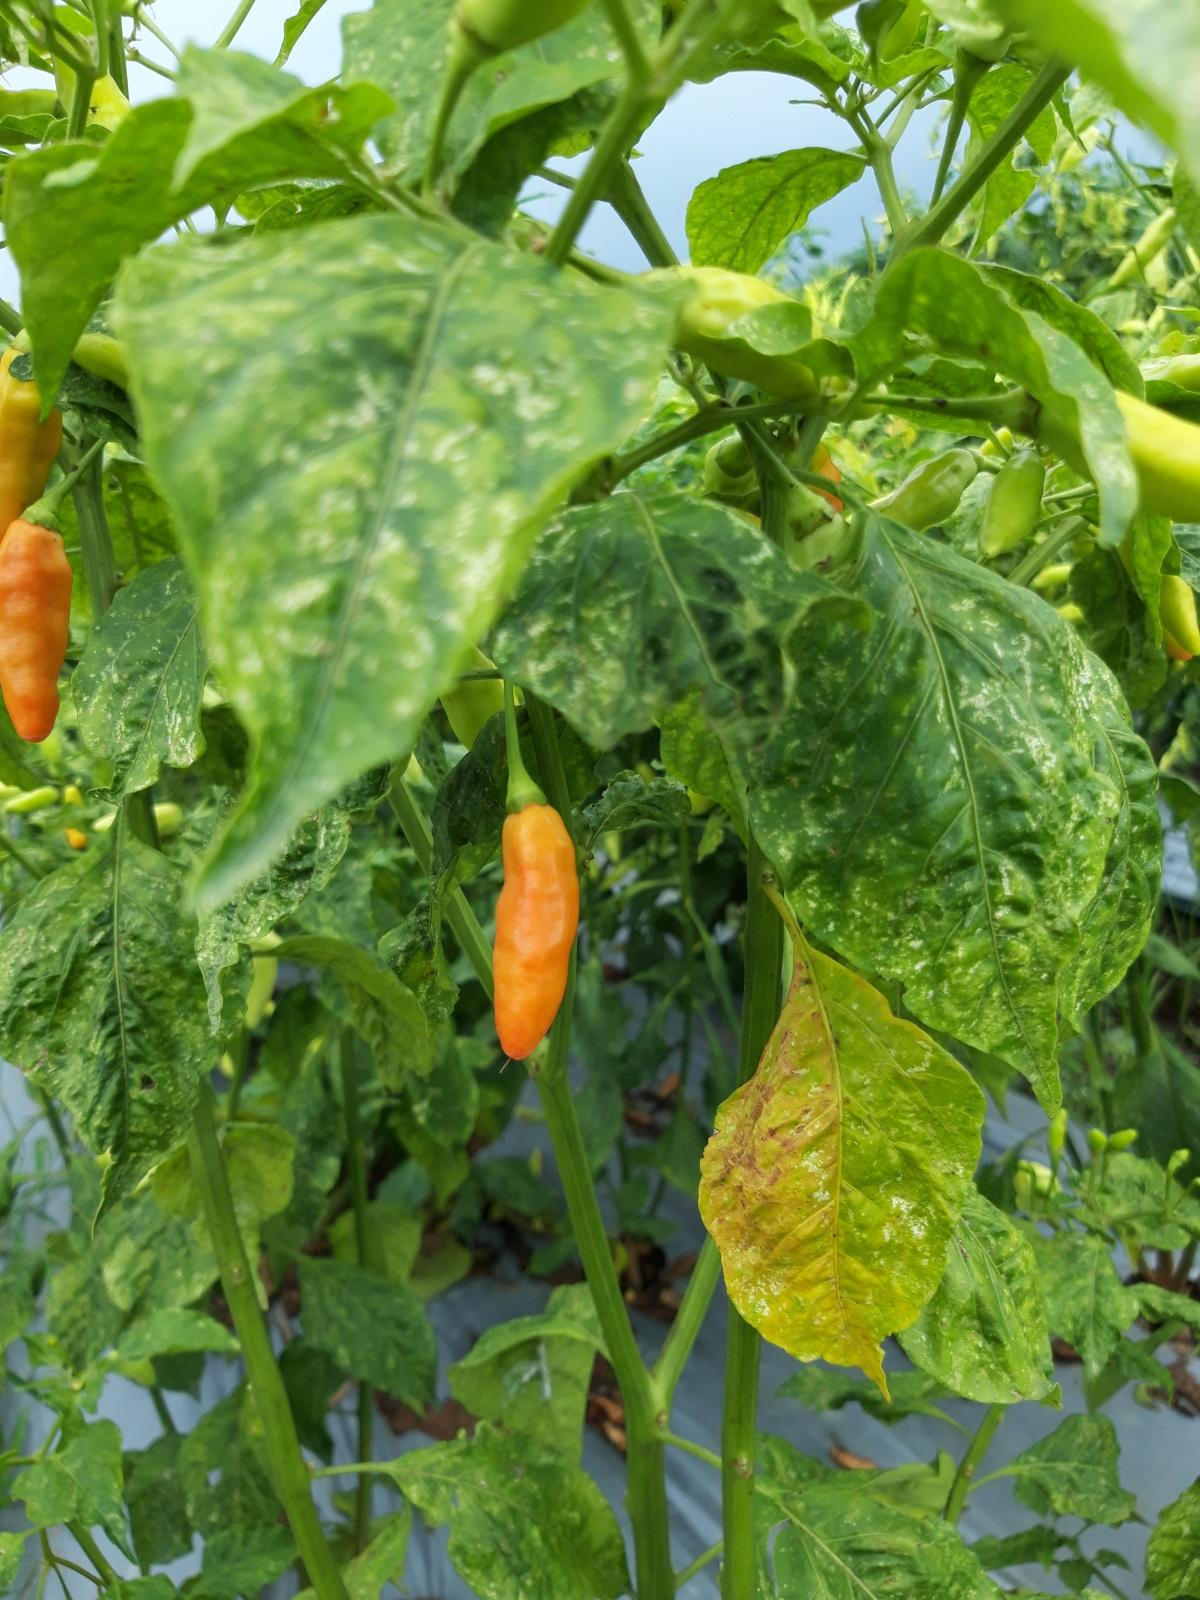cabai_normal: (492, 803, 580, 1062), (0, 519, 74, 742), (831, 450, 979, 538), (0, 344, 64, 524), (978, 447, 1047, 558)
